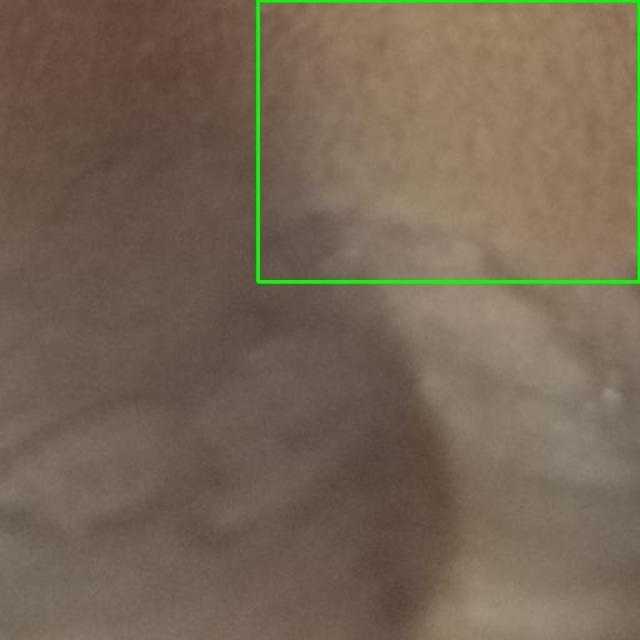Tinea Corporis: (258, 0, 639, 281)
